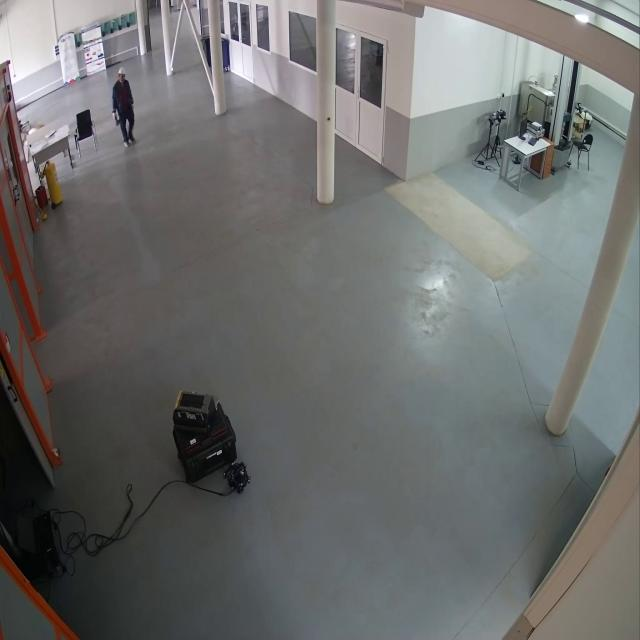Hardhat: (118, 67, 127, 76)
Person: (111, 66, 138, 148)
